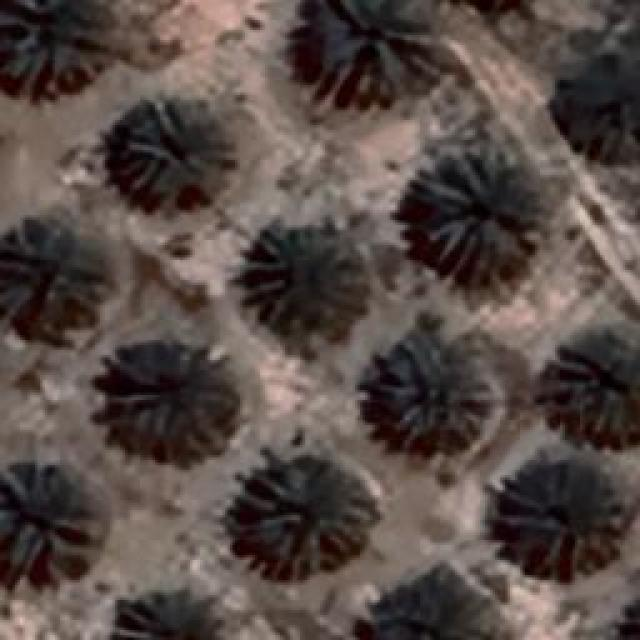PalmTree: (232, 220, 366, 352), (410, 148, 540, 282), (235, 460, 370, 578), (100, 345, 235, 460), (547, 21, 640, 163), (374, 334, 488, 448), (495, 472, 623, 572), (0, 215, 110, 328), (115, 97, 227, 205), (312, 0, 429, 102), (360, 562, 510, 640), (0, 458, 95, 572), (547, 322, 635, 442), (0, 0, 102, 95), (110, 590, 222, 638)
